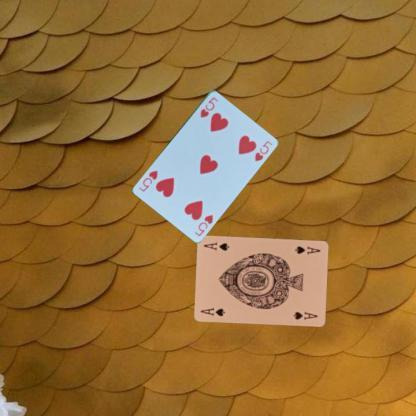5h: (198, 94, 220, 119), (192, 212, 214, 236)
As: (292, 244, 322, 256), (198, 305, 227, 317)
